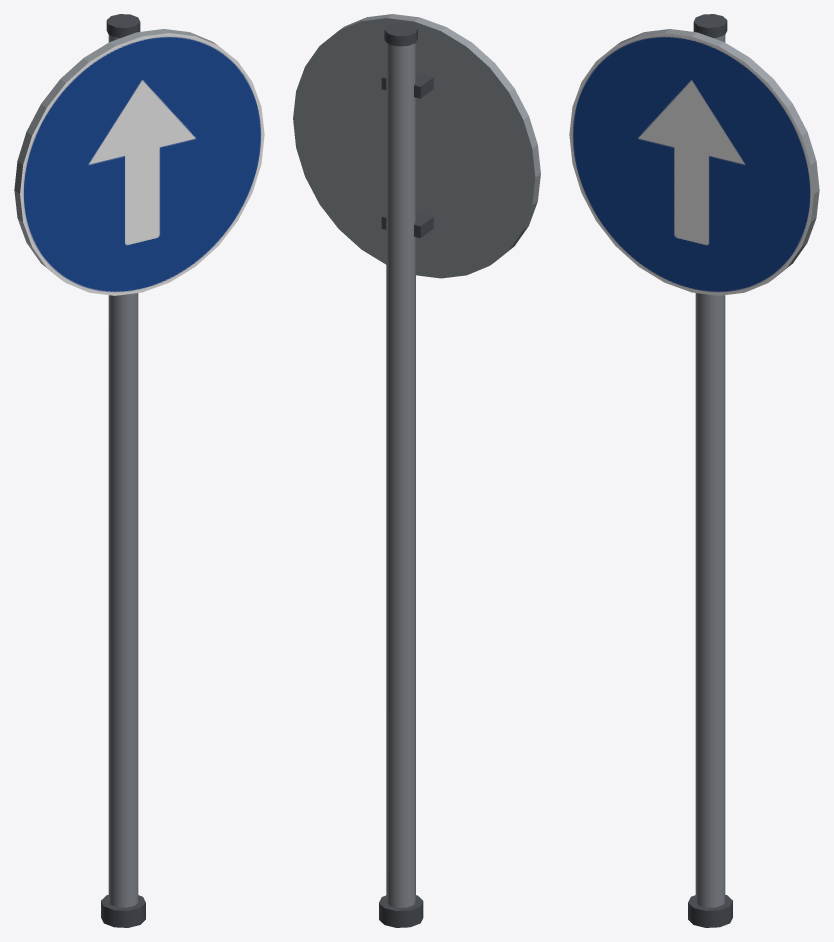
Rendered from placa-sentido-obrigatorio.glb.
3 views of the same model, side by side, from view 1: azimuth 30°, elevation 25°; view 2: azimuth 150°, elevation 25°; view 3: azimuth 330°, elevation 25° (orthographic).
Parts seen in each view (by area): view 1: Placa, Poste; view 2: Placa, Poste, Suportes; view 3: Placa, Poste.
Boxes of the visible parts, x1,y1,x2,y2 form: Placa: (14, 29, 264, 295); Poste: (101, 14, 145, 927); Placa: (293, 14, 540, 278); Poste: (379, 22, 423, 927); Suportes: (381, 73, 433, 238); Placa: (569, 29, 819, 295); Poste: (688, 14, 732, 927).
Size of the model in its own units: 0.75 by 2.63 by 0.1571.
4 materials, 1 textured.
